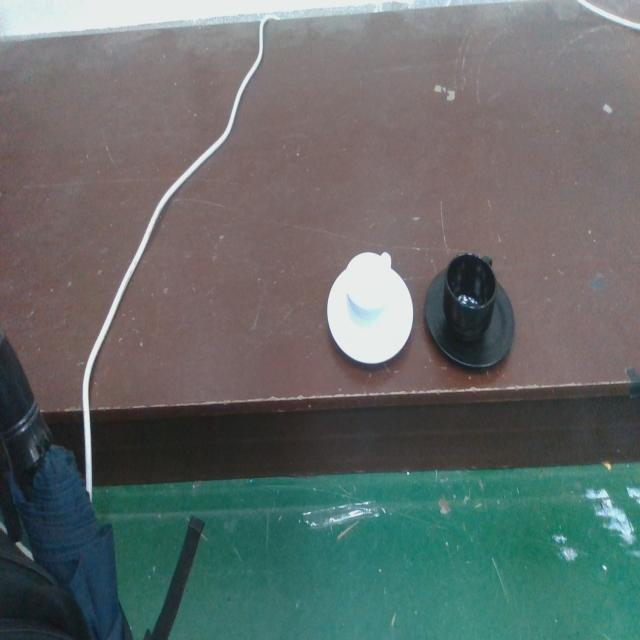black: (422, 250, 516, 375)
white: (324, 247, 415, 370)
